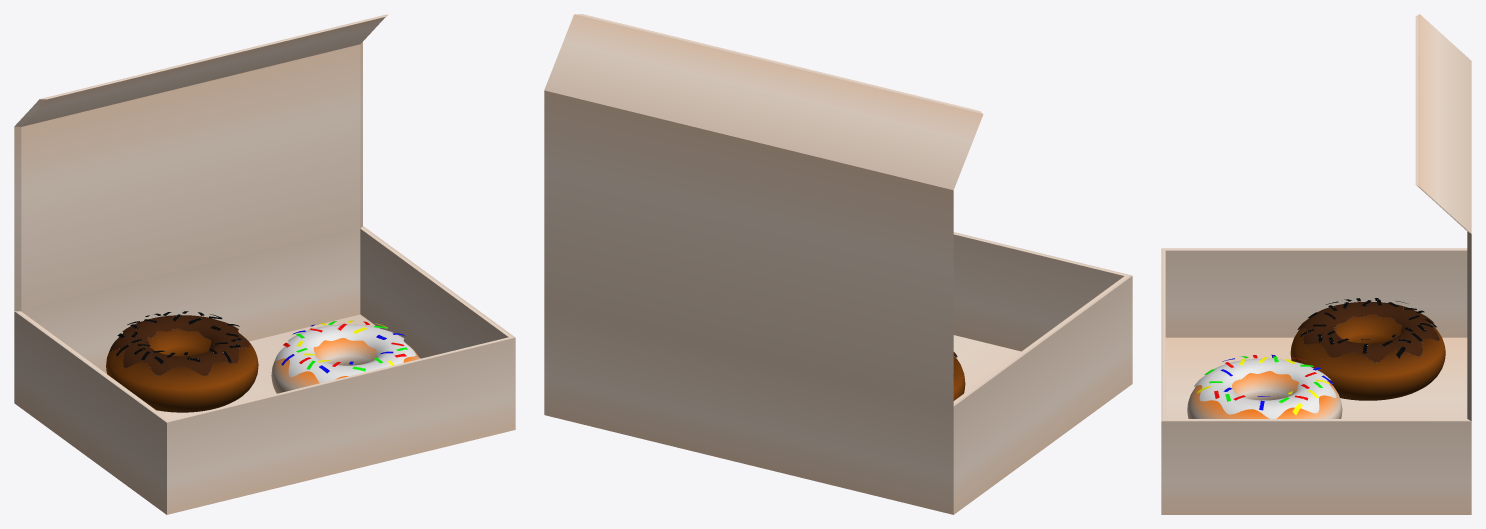
Rendered from donut.obj.
3 views of the same model, side by side, from view 1: azimuth 30°, elevation 25°; view 2: azimuth 150°, elevation 25°; view 3: azimuth 270°, elevation 25° (orthographic). The views are drawn at different scales.
Parts seen in each view (by area): view 1: box, choco_donut, choco_donut_cover, donut_cover, donut, choco_donut_top, donut_top; view 2: box; view 3: box, choco_donut, donut_cover, choco_donut_cover, donut, choco_donut_top, donut_top.
Boxes of the visible parts, left/top/right/bottom form: box: left=14, top=14, right=515, bottom=514; choco_donut: left=106, top=328, right=258, bottom=412; choco_donut_cover: left=109, top=315, right=250, bottom=375; donut_cover: left=275, top=324, right=415, bottom=383; donut: left=271, top=338, right=419, bottom=393; choco_donut_top: left=116, top=311, right=242, bottom=364; donut_top: left=281, top=320, right=407, bottom=373; box: left=544, top=14, right=1132, bottom=514; box: left=1161, top=14, right=1471, bottom=514; choco_donut: left=1290, top=314, right=1445, bottom=400; donut_cover: left=1194, top=358, right=1336, bottom=418; choco_donut_cover: left=1297, top=302, right=1439, bottom=362; donut: left=1187, top=371, right=1342, bottom=418; choco_donut_top: left=1300, top=298, right=1436, bottom=358; donut_top: left=1197, top=354, right=1333, bottom=415.
Bounding box in the file's own units: 7.92 × 7 × 6.
2 materials, 2 textured.
